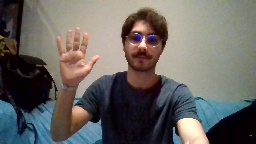Mano_aperta: (53, 25, 101, 85)
